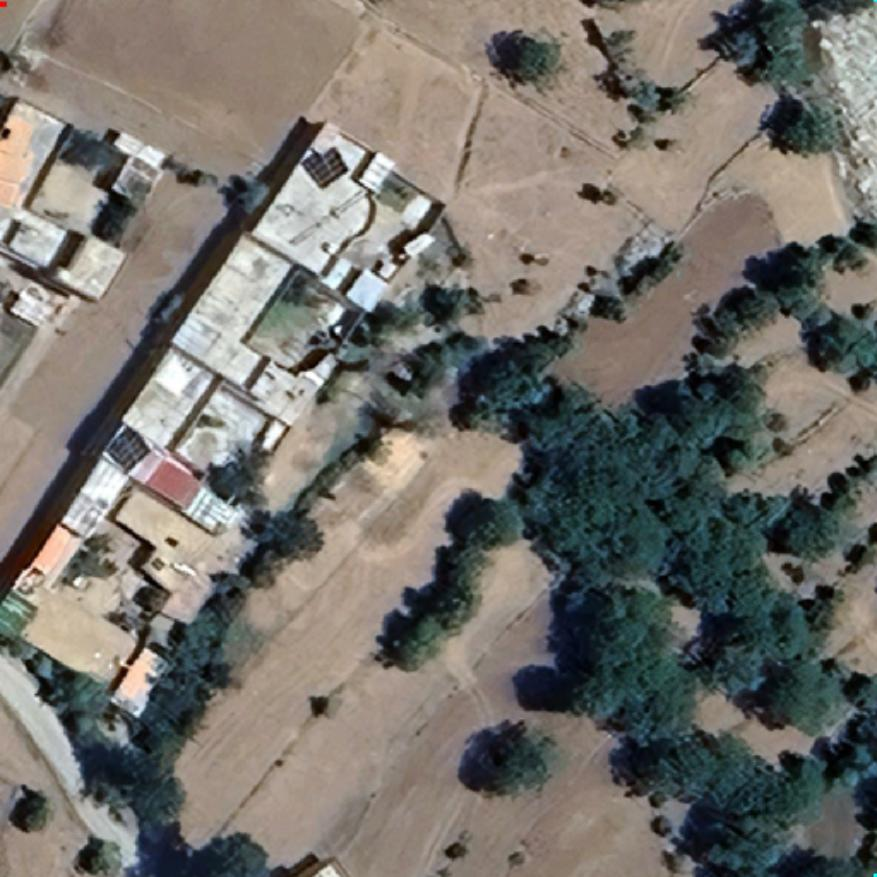Solarpanel: (296, 141, 354, 195), (102, 421, 153, 473)
